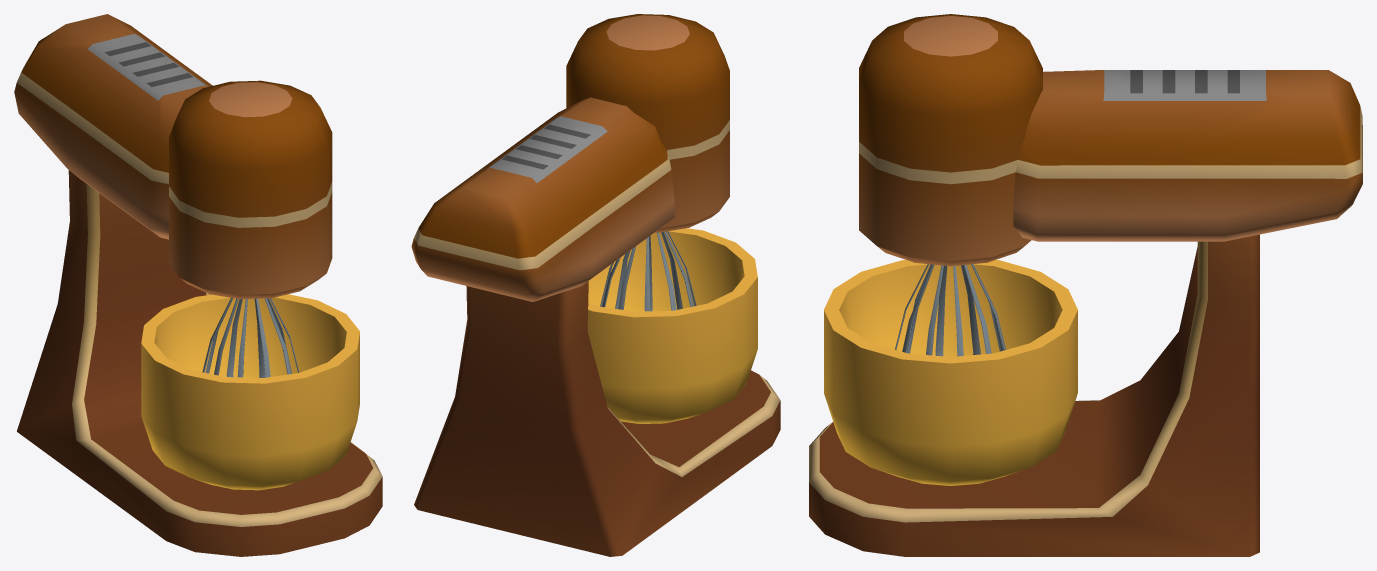
The model's file is Station Chocolate Cake.fbx.
3 views of the same model, side by side, from view 1: azimuth 30°, elevation 25°; view 2: azimuth 150°, elevation 25°; view 3: azimuth 270°, elevation 25° (orthographic). The views are drawn at different scales.
Visible parts, largest first — view 1: Station_Chocolate_Cake_Machine; view 2: Station_Chocolate_Cake_Machine; view 3: Station_Chocolate_Cake_Machine.
Part boxes in pixels (x1,y1,x2,y2): Station_Chocolate_Cake_Machine: (14, 14, 382, 556); Station_Chocolate_Cake_Machine: (411, 14, 780, 556); Station_Chocolate_Cake_Machine: (809, 14, 1362, 556).
Size of the model in its own units: 101 by 186 by 202.
